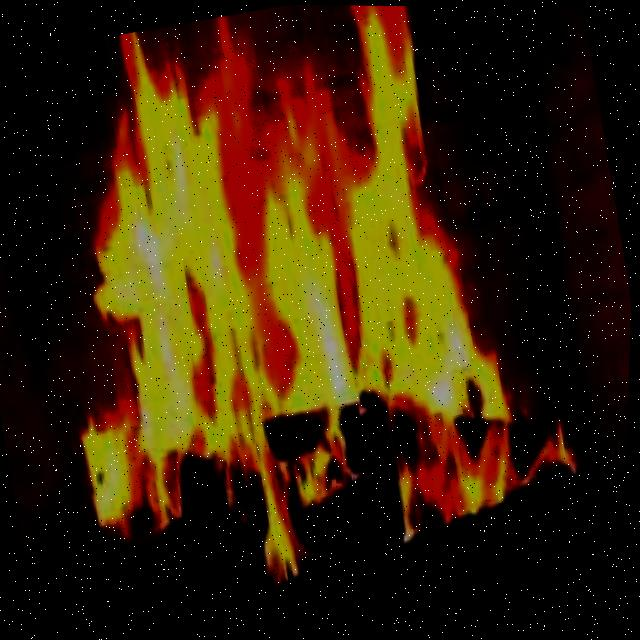Fire: (0, 0, 608, 621)
